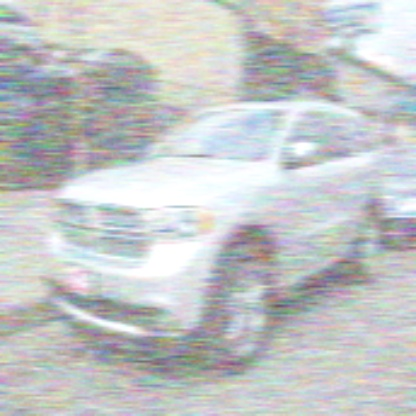Vehicle: (44, 96, 388, 380)
